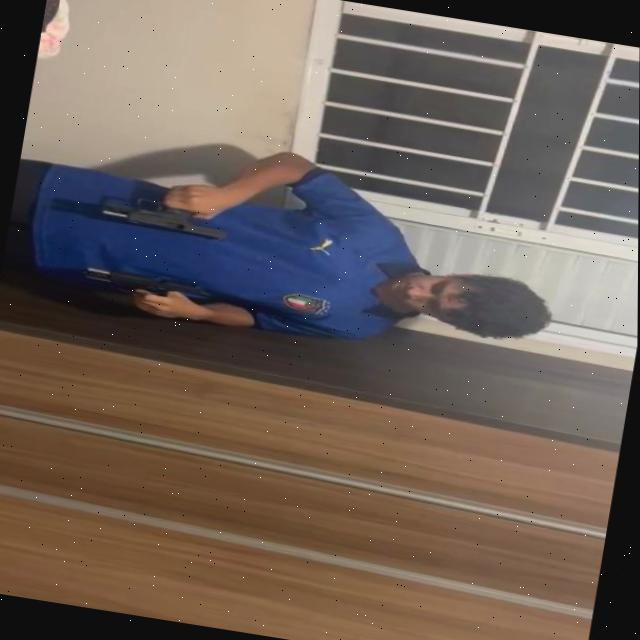gun: (98, 190, 232, 242), (78, 262, 198, 300)
